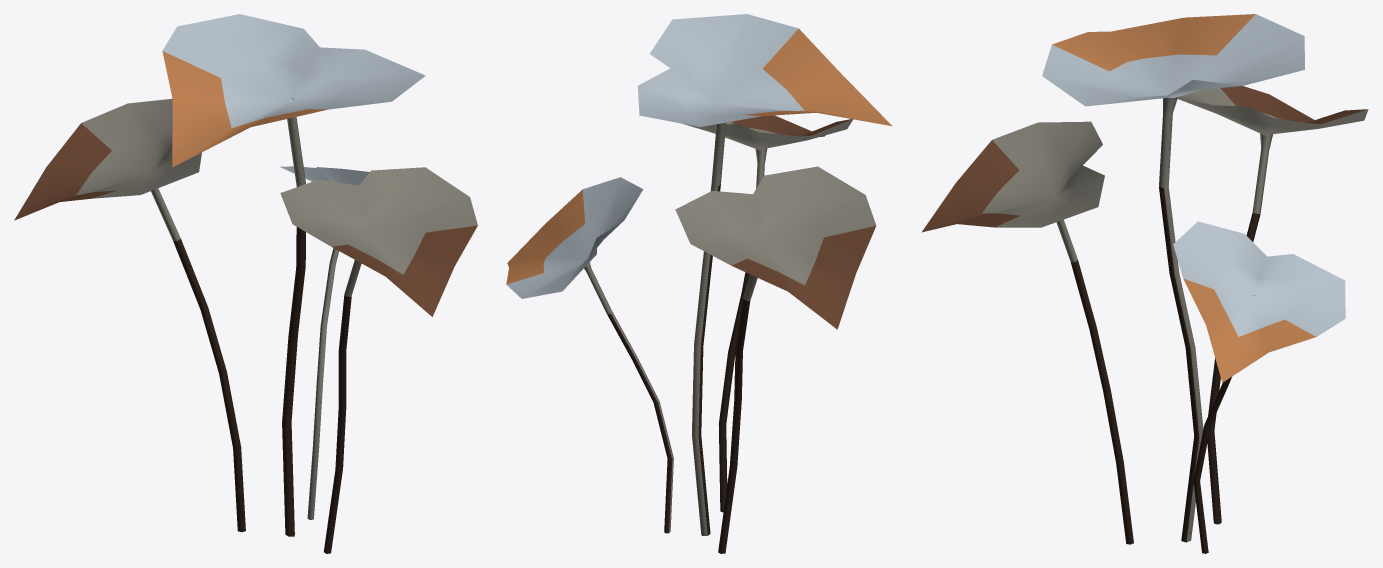
File: itch_assetquest_pond_swamp_calla_3.glb
3 renders of one model, left to right at view 1: azimuth 30°, elevation 25°; view 2: azimuth 150°, elevation 25°; view 3: azimuth 270°, elevation 25°, orthographic. The views are drawn at different scales.
Visible parts, largest first — view 1: Swamp_Calla_3; view 2: Swamp_Calla_3; view 3: Swamp_Calla_3.
Part boxes in pixels (box(x1,y1,x2,y2)): Swamp_Calla_3: box(14, 14, 477, 553); Swamp_Calla_3: box(506, 14, 892, 553); Swamp_Calla_3: box(922, 14, 1368, 553).
Bounding box in the file's own units: 0.96 × 1.12 × 0.9457.
